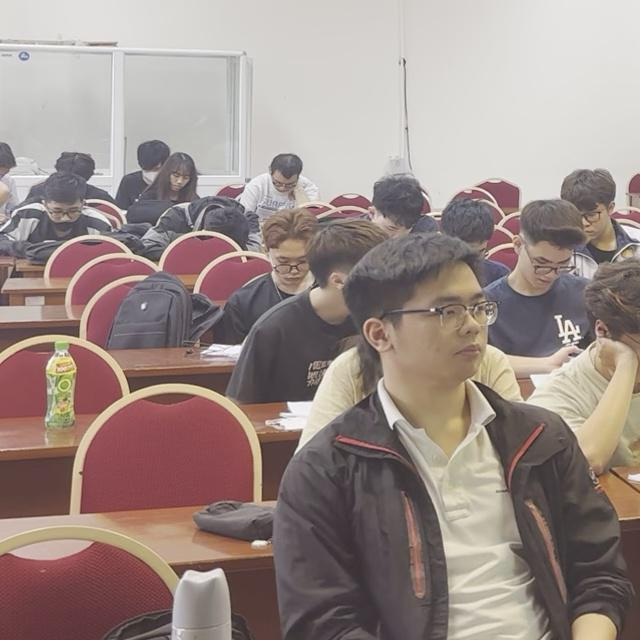Looking away: (517, 242, 573, 288), (269, 238, 313, 286), (268, 166, 301, 193), (50, 199, 79, 222), (168, 168, 192, 192)
Looking forward: (397, 262, 488, 382)
